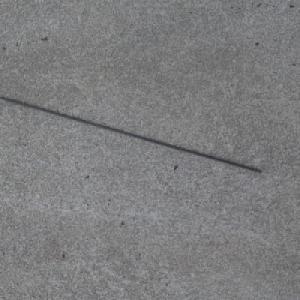LuggagePart: (0, 96, 263, 173)
